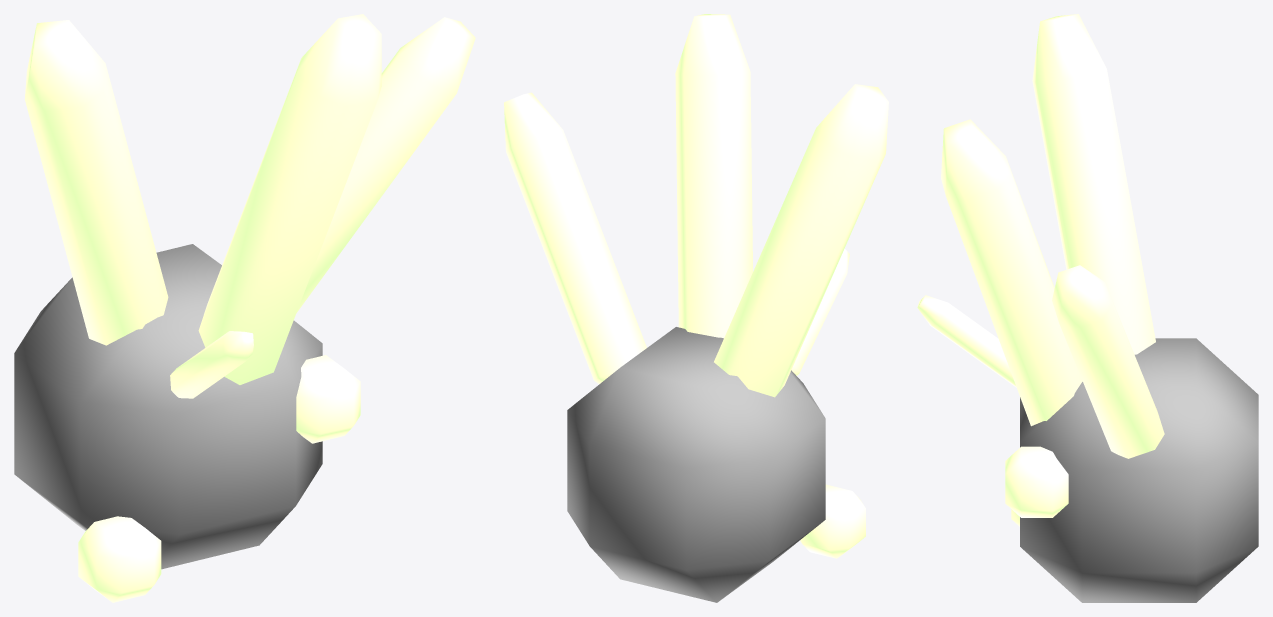
File: CrystalRod01.fbx
3 renders of one model, left to right at view 1: azimuth 30°, elevation 25°; view 2: azimuth 150°, elevation 25°; view 3: azimuth 270°, elevation 25°, orthographic. The views are drawn at different scales.
Parts seen in each view (by area): view 1: Crystal3, Crys_Rod2, Crys_Rod1, Crys_Rod3, Crys_Rod6, Crys_Rod5, Crys_Rod4; view 2: Crystal3, Crys_Rod1, Crys_Rod2, Crys_Rod3, Crys_Rod6, Crys_Rod4; view 3: Crystal3, Crys_Rod1, Crys_Rod2, Crys_Rod3, Crys_Rod5, Crys_Rod4.
Boxes of the visible parts, left/top/right/bottom form: Crystal3: left=14, top=244, right=322, bottom=569; Crys_Rod2: left=198, top=14, right=381, bottom=384; Crys_Rod1: left=24, top=20, right=168, bottom=345; Crys_Rod3: left=296, top=17, right=475, bottom=312; Crys_Rod6: left=78, top=516, right=161, bottom=602; Crys_Rod5: left=296, top=355, right=360, bottom=443; Crys_Rod4: left=170, top=331, right=253, bottom=398; Crystal3: left=567, top=327, right=825, bottom=602; Crys_Rod1: left=714, top=84, right=888, bottom=397; Crys_Rod2: left=675, top=14, right=752, bottom=338; Crys_Rod3: left=504, top=92, right=646, bottom=384; Crys_Rod6: left=800, top=484, right=865, bottom=558; Crys_Rod4: left=791, top=248, right=849, bottom=375; Crystal3: left=1020, top=338, right=1258, bottom=602; Crys_Rod1: left=1032, top=14, right=1155, bottom=354; Crys_Rod2: left=941, top=119, right=1082, bottom=426; Crys_Rod3: left=1052, top=265, right=1164, bottom=458; Crys_Rod5: left=1005, top=446, right=1068, bottom=517; Crys_Rod4: left=917, top=295, right=1016, bottom=387.
Bounding box in the file's own units: 115 × 144 × 89.25.
